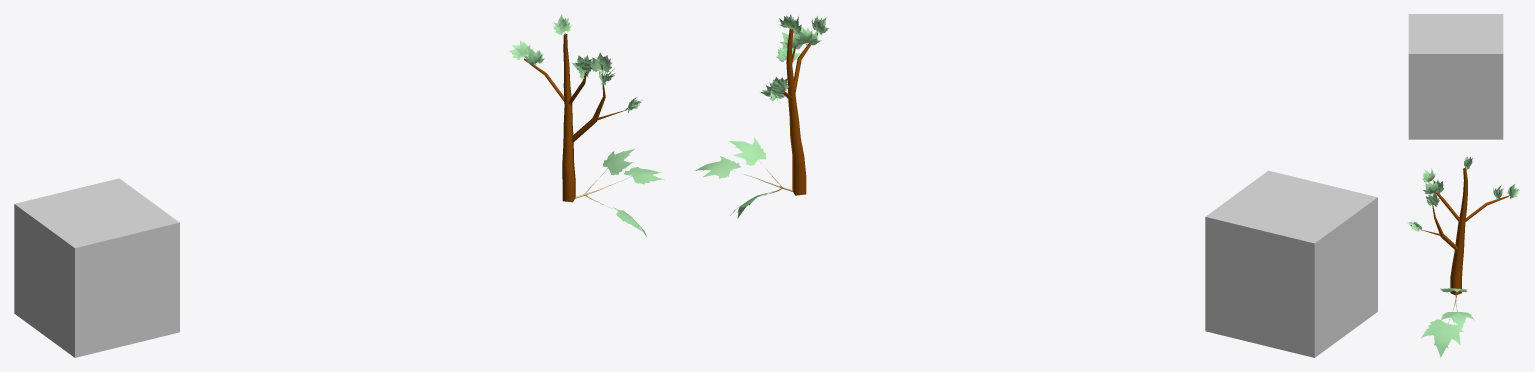
File: FinalTree13.fbx
3 renders of one model, left to right at view 1: azimuth 30°, elevation 25°; view 2: azimuth 150°, elevation 25°; view 3: azimuth 270°, elevation 25°, orthographic. The views are drawn at different scales.
Parts seen in each view (by area): view 1: Cube, Árbol; view 2: Cube, Árbol, palmate.003; view 3: Cube, Árbol, palmate.002, palmate.001.
Boxes of the visible parts, box(x1,y1,x2,y2) form: Cube: box(14, 178, 179, 357); Árbol: box(524, 33, 627, 202); Cube: box(1205, 170, 1377, 357); Árbol: box(776, 28, 818, 195); palmate.003: box(729, 137, 766, 168); Cube: box(1408, 14, 1503, 139); Árbol: box(1419, 168, 1508, 295); palmate.002: box(1421, 318, 1463, 357); palmate.001: box(1440, 309, 1474, 329).
Size of the model in its own units: 1185 by 412 by 242.
